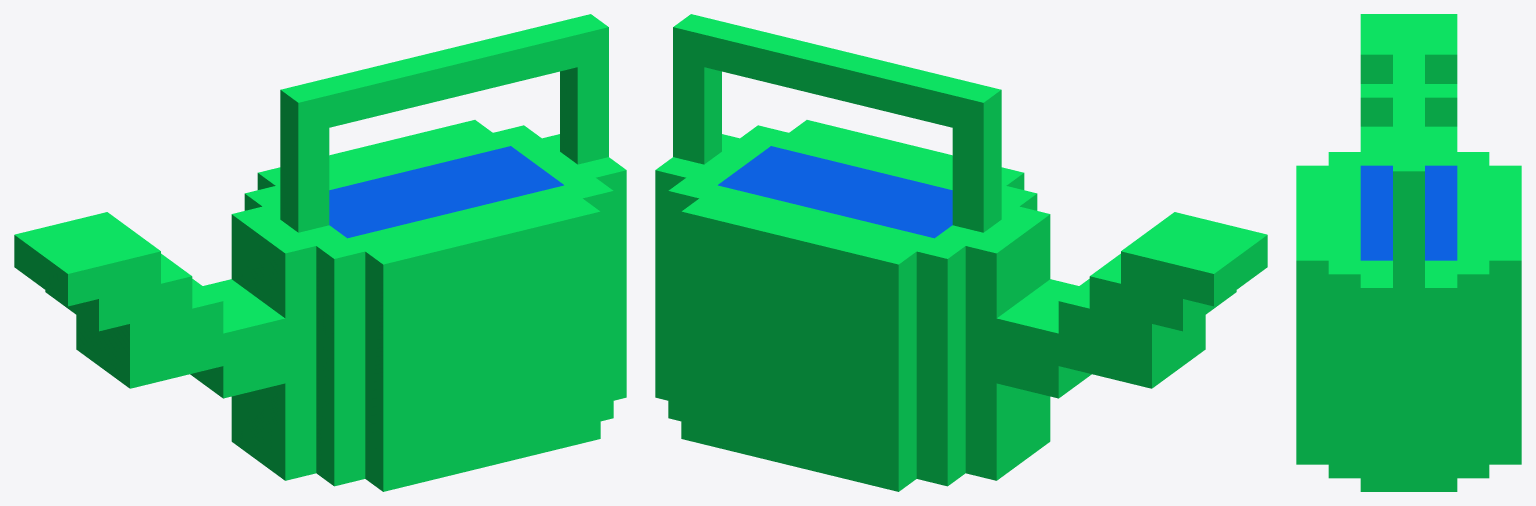
Rendered from wateringcan2.obj.
3 views of the same model, side by side, from view 1: azimuth 30°, elevation 25°; view 2: azimuth 150°, elevation 25°; view 3: azimuth 270°, elevation 25° (orthographic). The views are drawn at different scales.
Bounding box in the file's own units: 1.8 × 1.1 × 0.7.
1 material, 1 textured.
